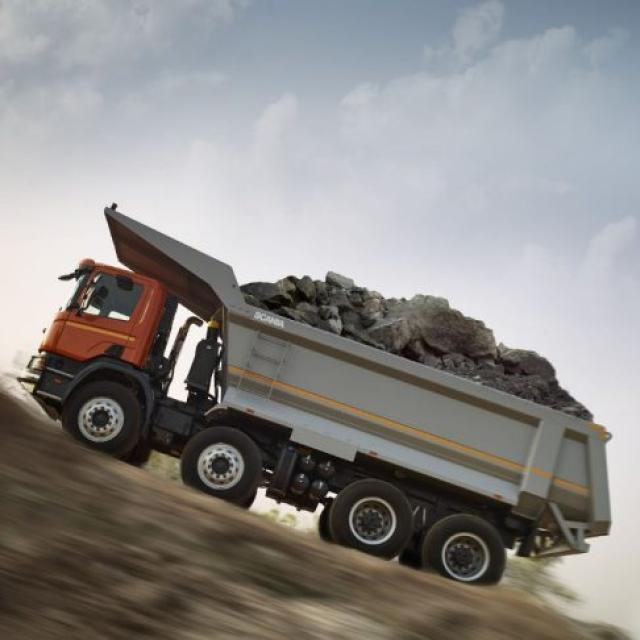dump_truck: (29, 163, 616, 616)
